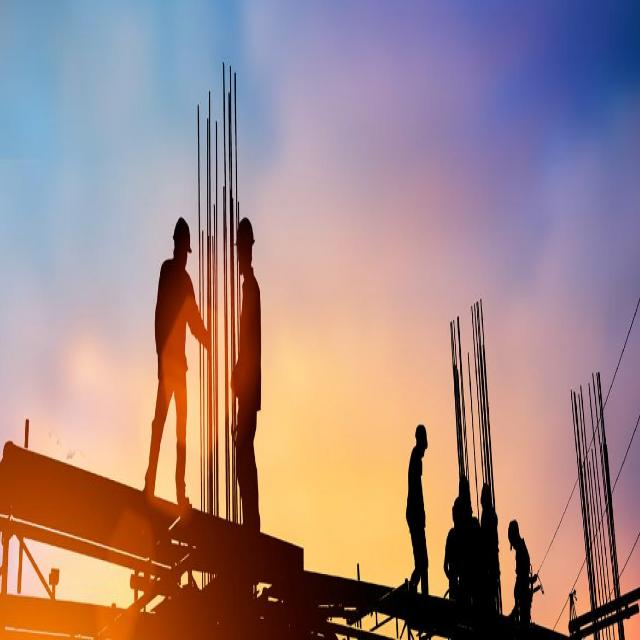Reflective-Jacket: (152, 258, 194, 386)
Safety-Helmet: (171, 208, 195, 248), (235, 206, 258, 247), (413, 416, 431, 450)
